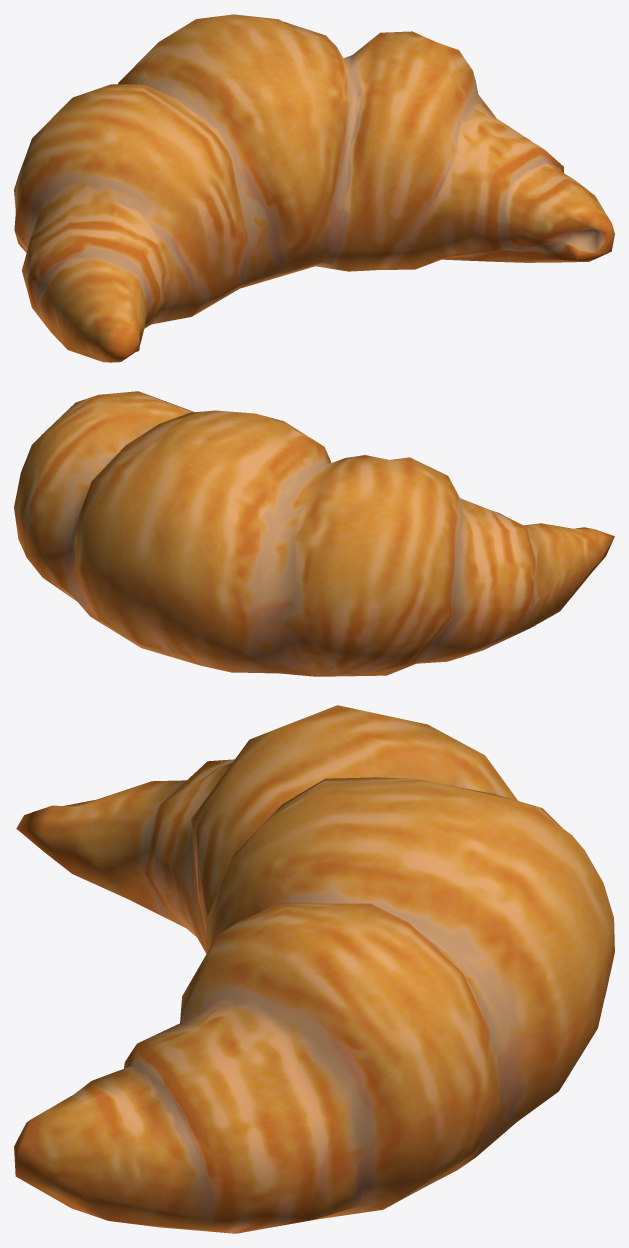
The model's file is Croissant.fbx.
The picture shows the model from 3 angles, top to bottom: view 1: azimuth 30°, elevation 25°; view 2: azimuth 150°, elevation 25°; view 3: azimuth 270°, elevation 25°; orthographic projection. The views are drawn at different scales.
Parts seen in each view (by area): view 1: Croissant; view 2: Croissant; view 3: Croissant.
Boxes of the visible parts, x1=… form: Croissant: x1=14, y1=14, x2=614, y2=362; Croissant: x1=14, y1=391, x2=614, y2=676; Croissant: x1=14, y1=705, x2=614, y2=1233.
Size of the model in its own units: 12.46 by 5.13 by 8.94.
